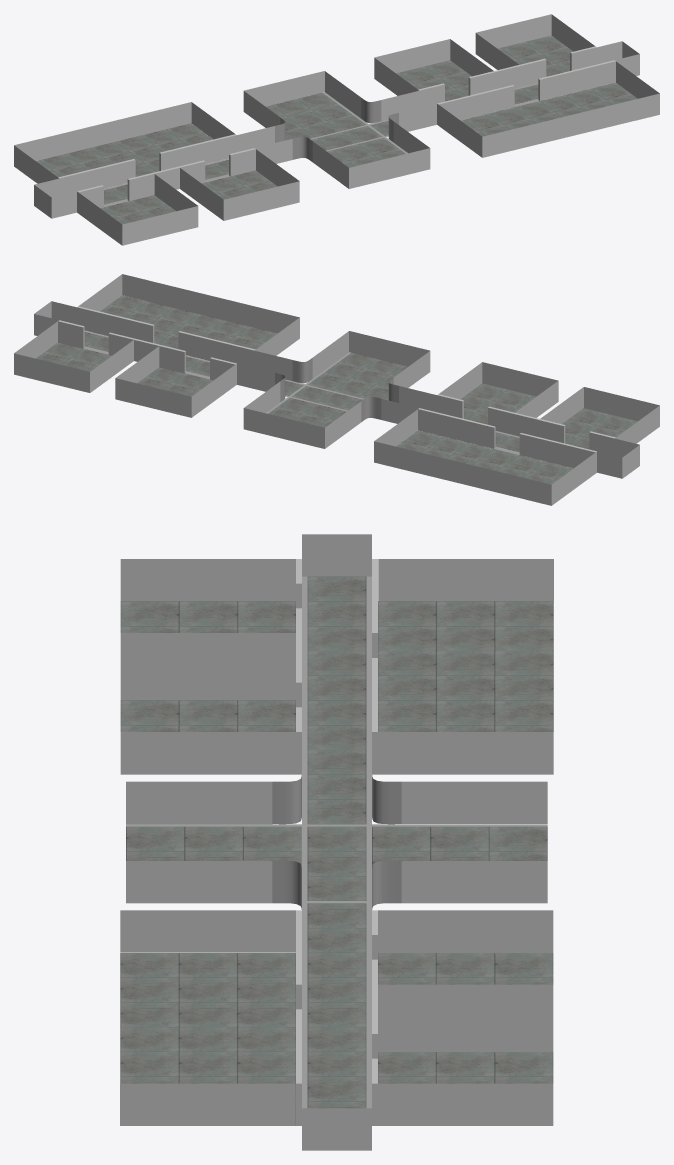
The model's file is Building.fbx.
3 renders of one model, top to bottom at view 1: azimuth 30°, elevation 25°; view 2: azimuth 150°, elevation 25°; view 3: azimuth 270°, elevation 25°, orthographic. The views are drawn at different scales.
Parts seen in each view (by area): view 1: pCube150, pCube151, polySurface53, polySurface132, pCube287, pPlane188, pPlane33, pPlane90, pPlane35, pPlane18, pPlane213, pPlane214 (+23 smaller); view 2: pCube151, pCube150, polySurface52, polySurface134, pCube287, pPlane113, Wall29, pPlane18, pPlane250, pPlane107, pPlane40, pPlane41 (+23 smaller); view 3: pCube148, pCube287, pPlane207, Wall32, pPlane218, pPlane237, pPlane240, pPlane17, pPlane12, pPlane27, pPlane25, pPlane199 (+143 smaller).
Boxes of the visible parts, bbox=[...] form: pCube150: bbox=[349, 148, 430, 188]; pCube151: bbox=[244, 71, 324, 106]; polySurface53: bbox=[361, 98, 381, 123]; polySurface132: bbox=[292, 136, 312, 161]; pCube287: bbox=[34, 185, 51, 218]; pPlane188: bbox=[464, 113, 503, 130]; pPlane33: bbox=[272, 99, 310, 115]; pPlane90: bbox=[312, 103, 351, 120]; pPlane35: bbox=[301, 120, 340, 137]; pPlane18: bbox=[317, 132, 356, 148]; pPlane213: bbox=[141, 129, 180, 146]; pPlane214: bbox=[65, 148, 104, 164]; pCube151: bbox=[243, 408, 324, 448]; pCube150: bbox=[349, 331, 429, 366]; polySurface52: bbox=[292, 358, 312, 383]; polySurface134: bbox=[361, 396, 381, 421]; pCube287: bbox=[622, 445, 639, 478]; pPlane113: bbox=[158, 308, 197, 324]; Wall29: bbox=[468, 383, 507, 399]; pPlane18: bbox=[317, 392, 356, 408]; pPlane250: bbox=[505, 455, 544, 471]; pPlane107: bbox=[108, 295, 147, 311]; pPlane40: bbox=[348, 369, 387, 386]; pPlane41: bbox=[322, 363, 361, 380]; pCube148: bbox=[302, 1108, 371, 1150]; pCube287: bbox=[302, 534, 371, 576]; pPlane207: bbox=[120, 700, 179, 725]; Wall32: bbox=[307, 799, 366, 824]; pPlane218: bbox=[120, 601, 179, 626]; pPlane237: bbox=[307, 601, 366, 626]; pPlane240: bbox=[307, 700, 366, 725]; pPlane17: bbox=[307, 826, 366, 851]; pPlane12: bbox=[430, 826, 489, 851]; pPlane27: bbox=[307, 1076, 366, 1101]; pPlane25: bbox=[307, 675, 366, 700]; pPlane199: bbox=[307, 774, 366, 799].
Size of the model in its own units: 11600 by 403 by 3706.
